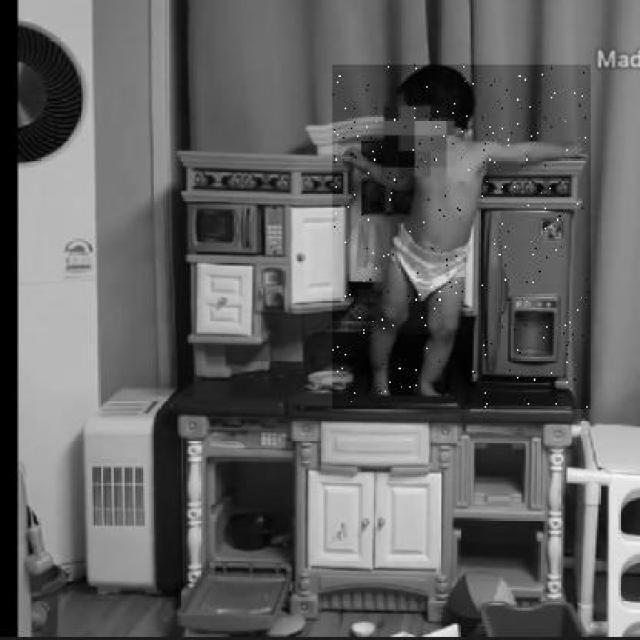child: (333, 65, 592, 410)
